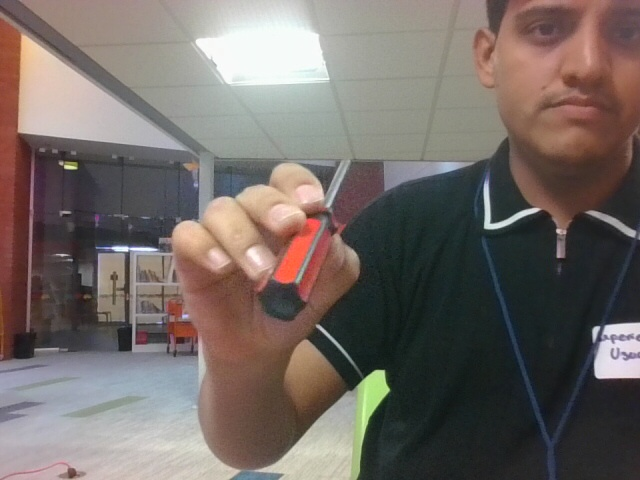destornillador: (256, 157, 353, 318)
